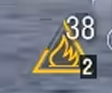2fire: (29, 44, 98, 79)
